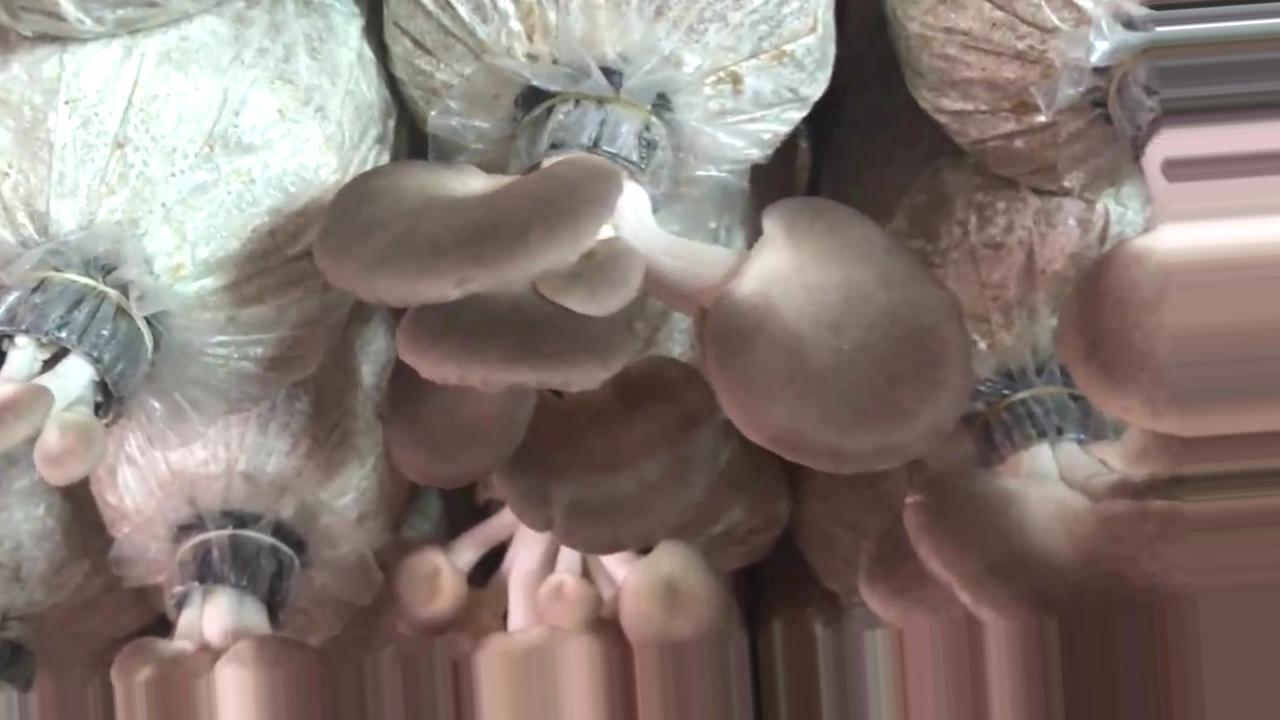nam: (314, 82, 971, 553), (860, 378, 1181, 618), (399, 507, 727, 720), (112, 521, 328, 720), (1, 268, 150, 487)
